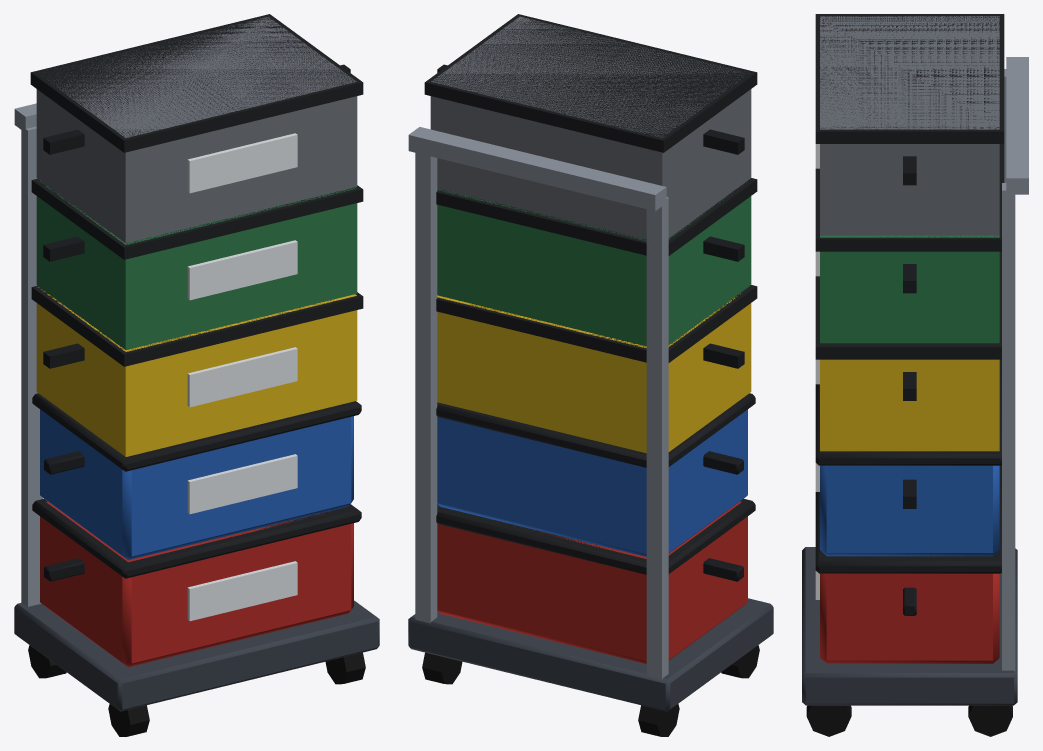
Rendered from storagebin_tote_stack_dolly.glb.
The picture shows the model from 3 angles, left to right: view 1: azimuth 30°, elevation 25°; view 2: azimuth 150°, elevation 25°; view 3: azimuth 270°, elevation 25°; orthographic projection.
Visible parts, largest first — view 1: storagebin_tote_stack_dolly; view 2: storagebin_tote_stack_dolly; view 3: storagebin_tote_stack_dolly.
Boxes of the visible parts, x1=… form: storagebin_tote_stack_dolly: x1=14, y1=14, x2=379, y2=736; storagebin_tote_stack_dolly: x1=408, y1=14, x2=773, y2=736; storagebin_tote_stack_dolly: x1=802, y1=14, x2=1028, y2=736.
Bounding box in the file's own units: 0.78 × 1.49 × 0.505.
